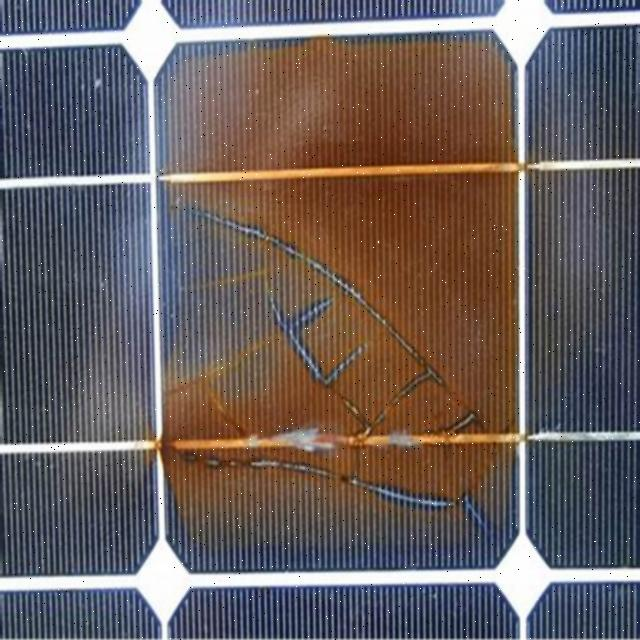electrical damage: (140, 27, 517, 608)
